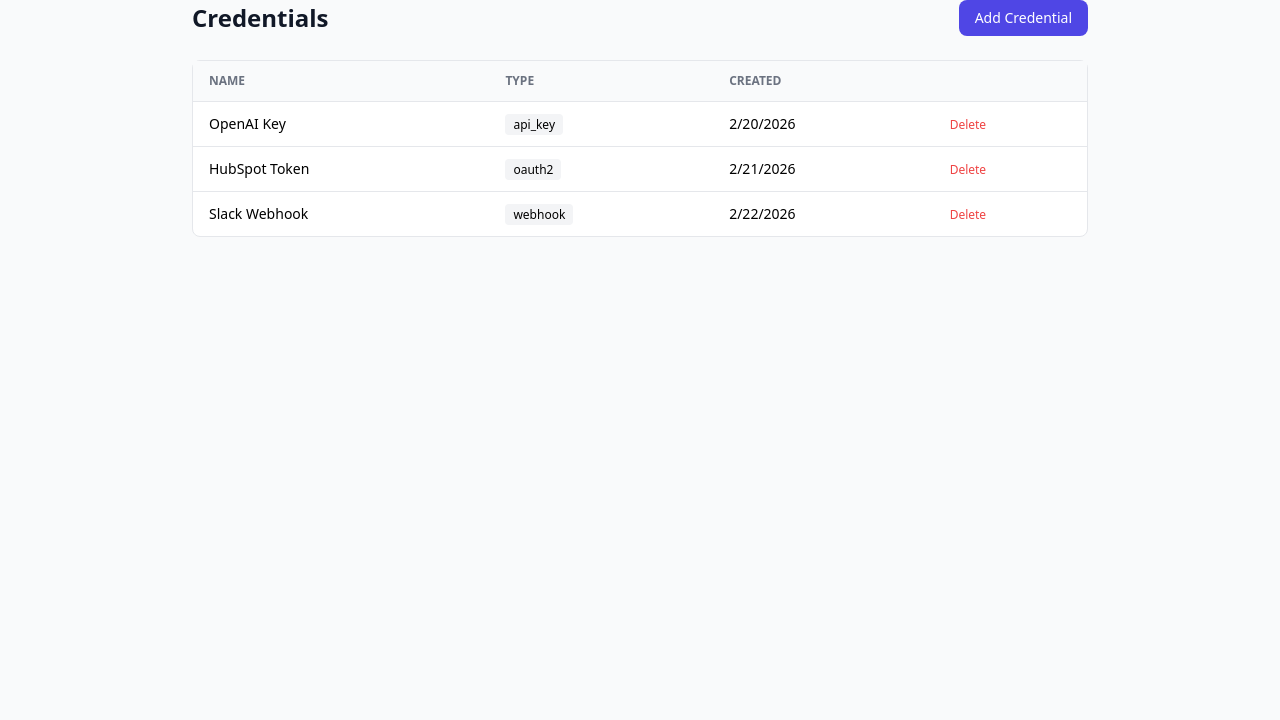
CR9: Delete credential › cancel closes the dialog without deleting
Click the button "Delete" in the row of "OpenAI Key" at (968, 125), box top-left (950, 117), bottom-right (986, 133)
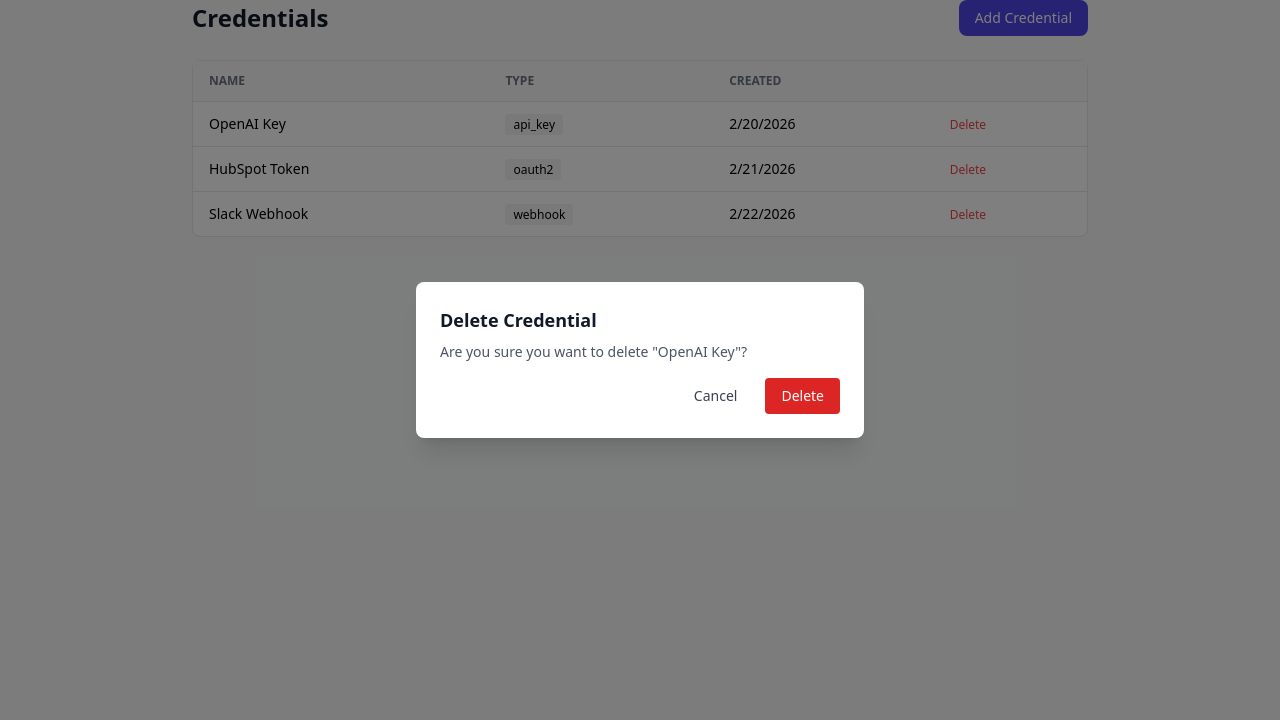
Check: the heading "Delete Credential" is shown, box top-left (440, 308), bottom-right (597, 332)
Click the button "Cancel" at (716, 396), box top-left (678, 378), bottom-right (753, 414)
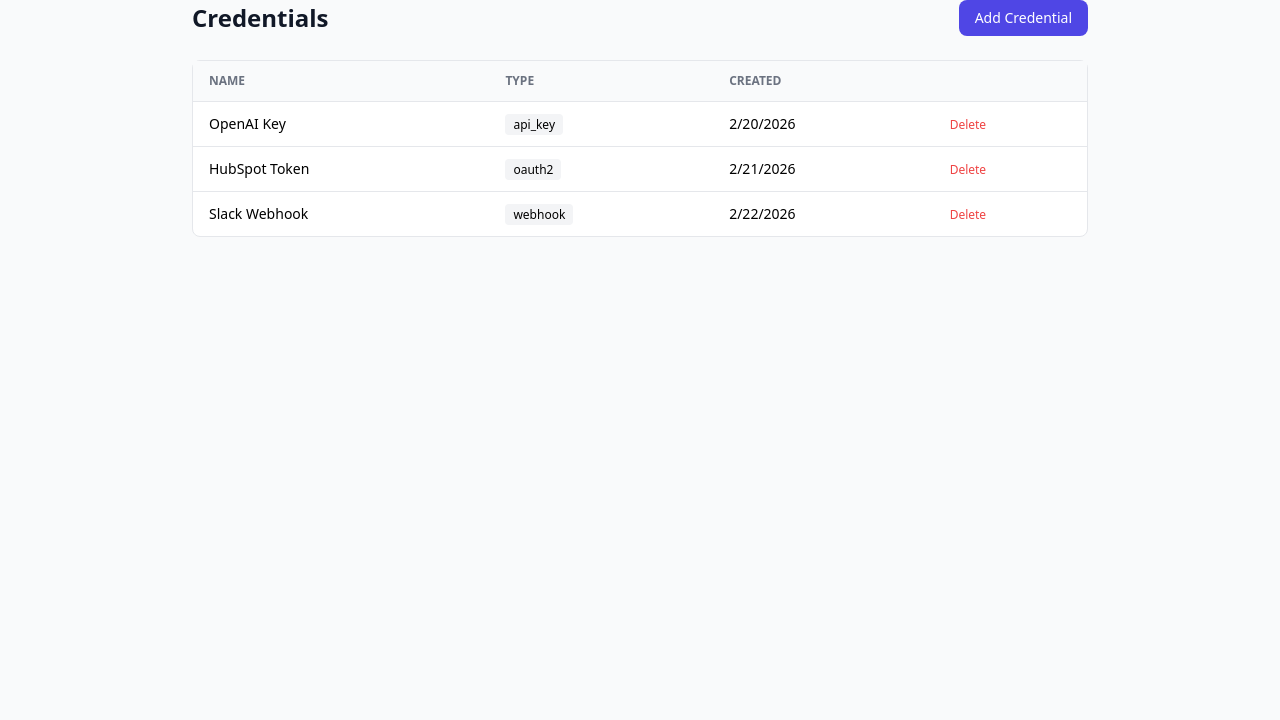
Check: the heading "Delete Credential" is gone
